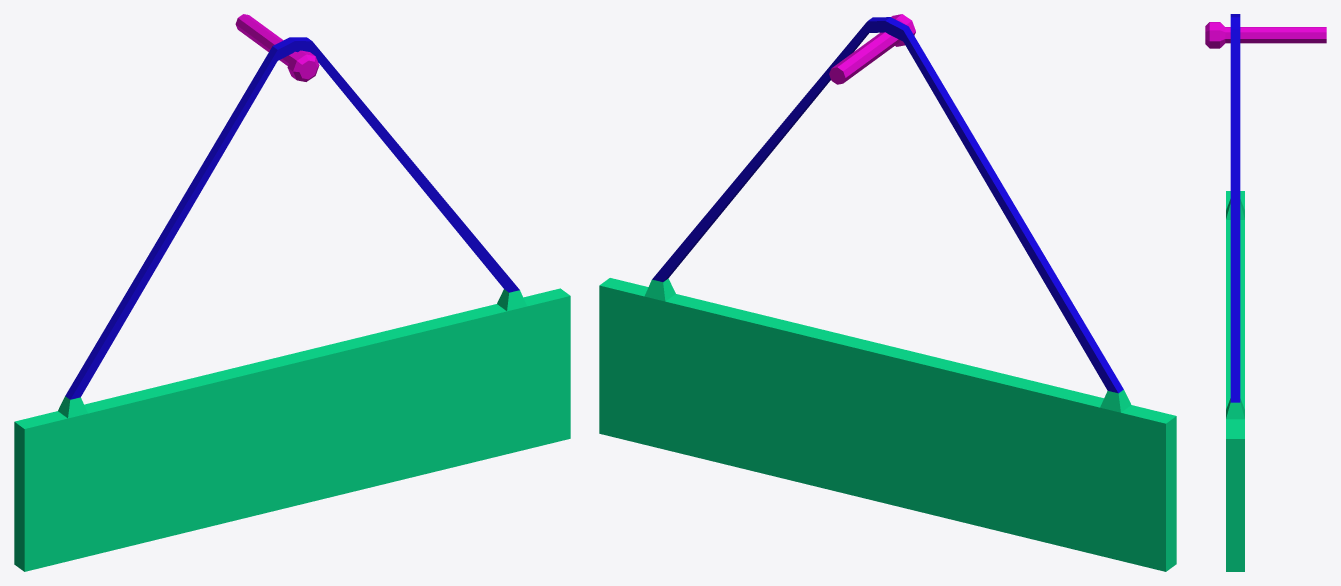
The model's file is insegna_bevande.fbx.
3 views of the same model, side by side, from view 1: azimuth 30°, elevation 25°; view 2: azimuth 150°, elevation 25°; view 3: azimuth 270°, elevation 25° (orthographic). The views are drawn at different scales.
Visible parts, largest first — view 1: Bevande; view 2: Bevande; view 3: Bevande.
Part boxes in pixels (x1,y1,x2,y2): Bevande: (14,14,570,571); Bevande: (599,14,1176,571); Bevande: (1205,14,1326,571).
Bounding box in the file's own units: 600 × 486 × 124.
